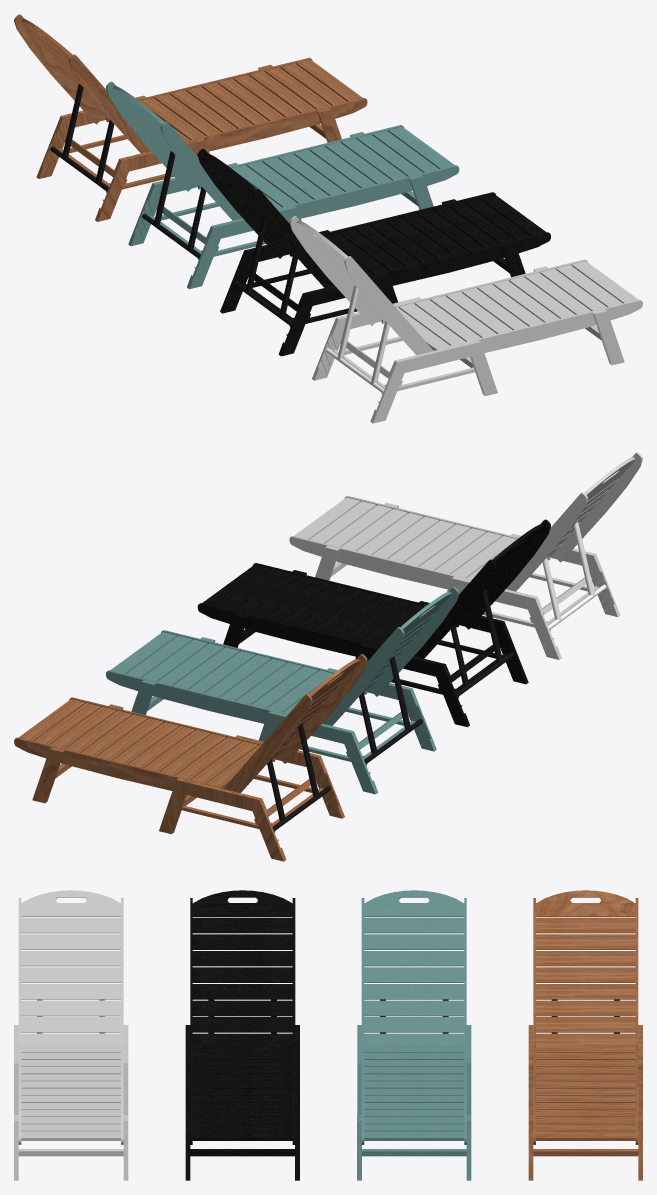
3 renders of one model, top to bottom at view 1: azimuth 30°, elevation 25°; view 2: azimuth 150°, elevation 25°; view 3: azimuth 270°, elevation 25°, orthographic. The views are drawn at different scales.
Parts seen in each view (by area): view 1: White Chair, Black Chair, Wood Chair, Blue Chair; view 2: Wood Chair, Blue Chair, White Chair, Black Chair; view 3: Black Chair, Blue Chair, White Chair, Wood Chair.
Boxes of the visible parts, x1=… form: White Chair: x1=289, y1=216, x2=642, y2=423; Black Chair: x1=197, y1=148, x2=550, y2=356; Wood Chair: x1=14, y1=14, x2=367, y2=221; Blue Chair: x1=106, y1=81, x2=459, y2=289; Wood Chair: x1=14, y1=654, x2=367, y2=861; Blue Chair: x1=106, y1=586, x2=459, y2=794; White Chair: x1=289, y1=452, x2=642, y2=659; Black Chair: x1=197, y1=519, x2=550, y2=727; Black Chair: x1=185, y1=890, x2=299, y2=1180; Blue Chair: x1=357, y1=890, x2=471, y2=1180; White Chair: x1=14, y1=890, x2=128, y2=1180; Wood Chair: x1=528, y1=890, x2=642, y2=1180.
Bounding box in the file's own units: 13.61 × 7.63 × 26.49.
4 materials, 4 textured.
